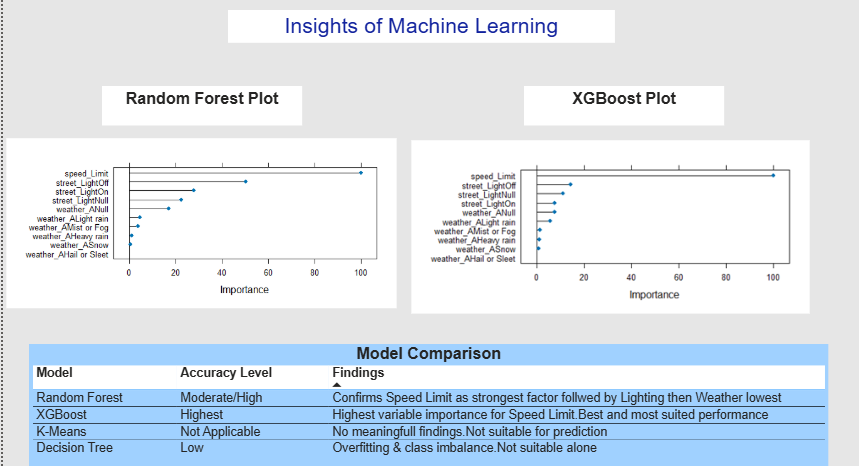

The page's visual inventory and layout, read from the dashboard file:
{"tool":"powerbi","page":{"name":"Machine Learning based Dashboard","canvas":[1280,720],"ordinal":3},"visuals":[{"type":"image","box":[0,137.7,593,409.9],"z":0},{"type":"image","box":[604.7,137.7,604.7,421.6],"z":1000},{"type":"tableEx","title":"Model Comparison","fields":{"Values":["Model Camparison.Model","Model Camparison.Accuracy Level","Model Camparison.Findings"]},"box":[38.6,522.4,1194.3,198.2],"z":2000},{"type":"textbox","box":[777.7,137.7,299,58.8],"z":3000},{"type":"textbox","box":[147.8,137.7,299,58.8],"z":4000},{"type":"textbox","box":[336,23.5,577.8,48.7],"z":5000}]}

Visuals, with their boxes on the page's 1280x720 design canvas (x1, y1, x2, y2). These are canvas units, not pixel positions in the 859x466 screenshot, which may show the page scaled, cropped or inside an application window:
image: pyautogui.locateOnScreen(0, 138, 593, 548)
image: pyautogui.locateOnScreen(605, 138, 1209, 559)
"Model Comparison" tableEx: pyautogui.locateOnScreen(39, 522, 1233, 721)
textbox: pyautogui.locateOnScreen(778, 138, 1077, 196)
textbox: pyautogui.locateOnScreen(148, 138, 447, 196)
textbox: pyautogui.locateOnScreen(336, 24, 914, 72)
